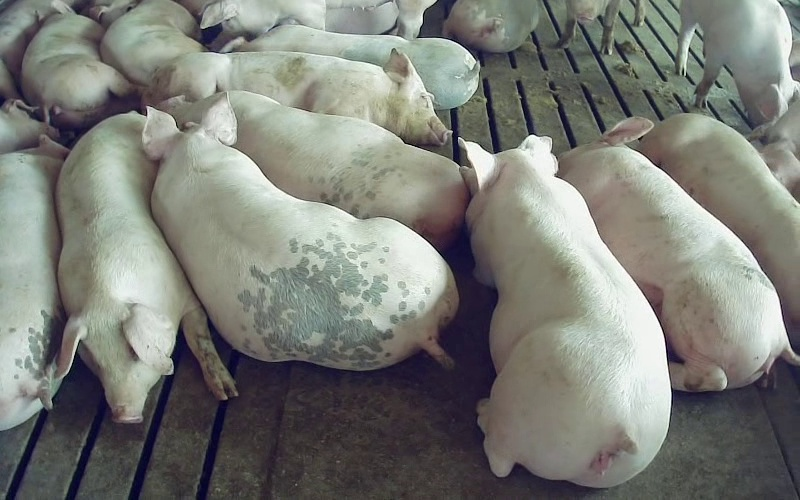pig: (460, 136, 670, 487), (559, 117, 799, 391), (56, 112, 236, 422), (229, 91, 468, 249), (639, 114, 799, 349), (145, 50, 449, 144), (222, 25, 479, 109), (0, 136, 67, 429), (676, 0, 799, 125), (21, 0, 139, 128), (442, 0, 538, 52)
